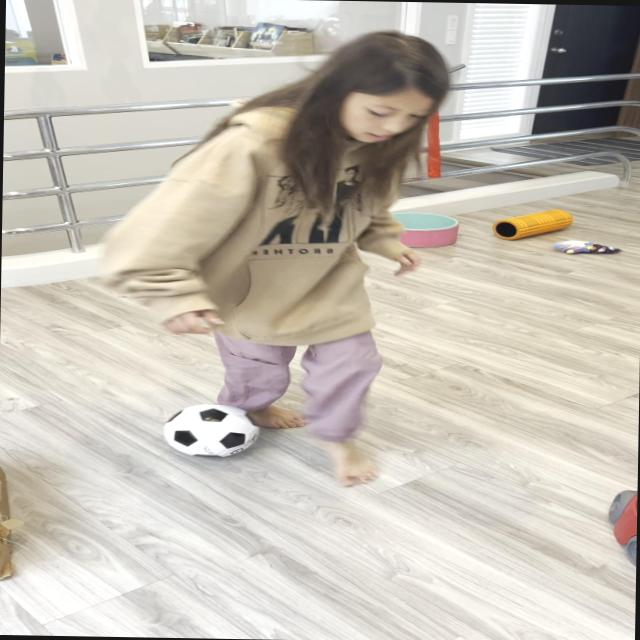Soccer Ball: (162, 402, 258, 458)
